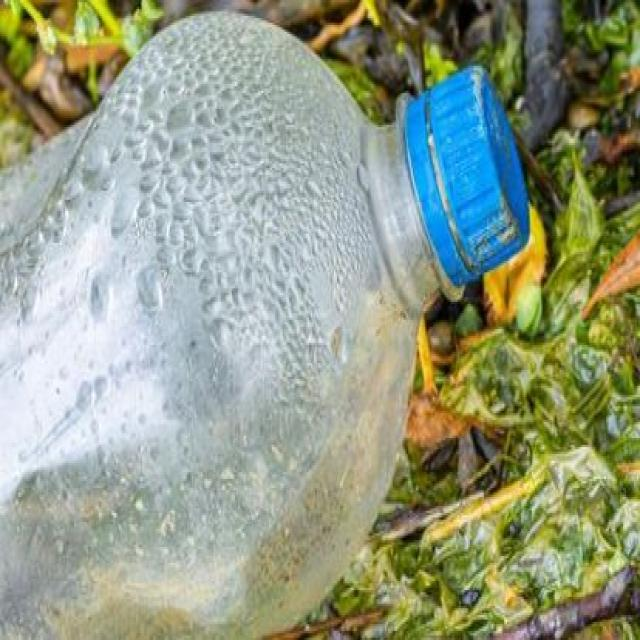general: (0, 7, 532, 638)
